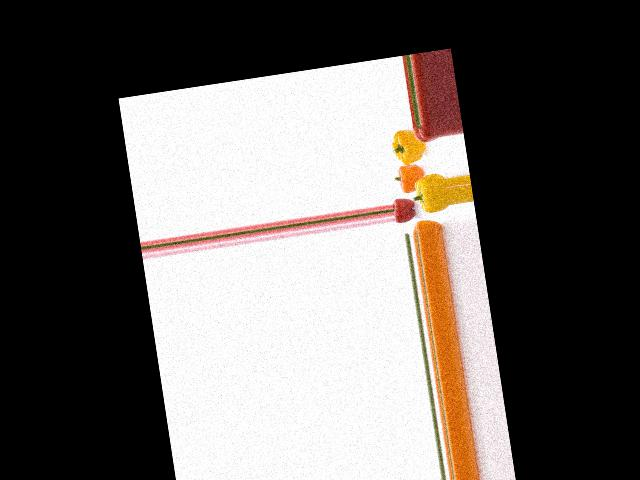bell_pepper: (410, 216, 442, 235)
